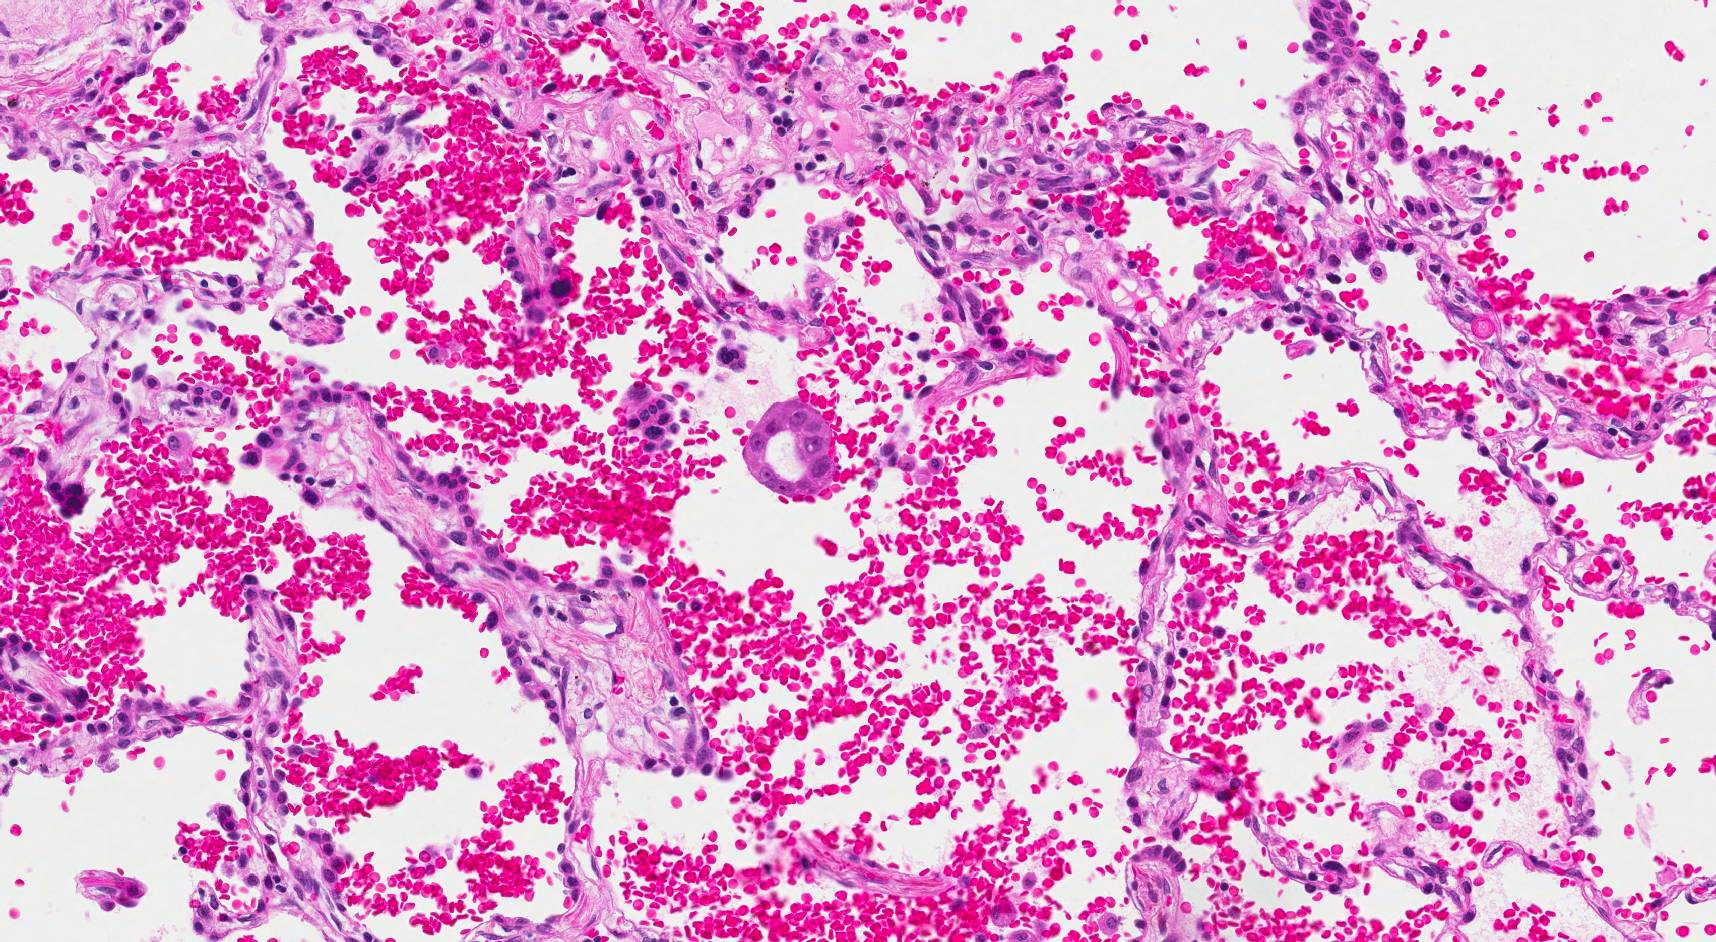stas: (744, 400, 840, 498)
